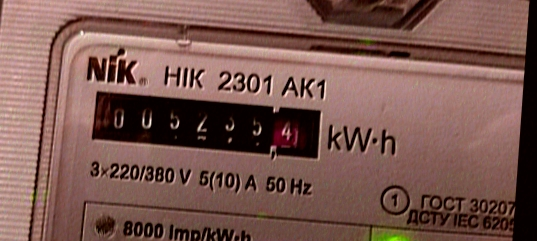0: (110, 105, 128, 132), (140, 105, 155, 131)
2: (195, 108, 210, 134)
3: (223, 108, 238, 134)
4: (279, 116, 296, 143)
5: (249, 111, 266, 139), (167, 106, 183, 133)
screen: (82, 82, 334, 169)
